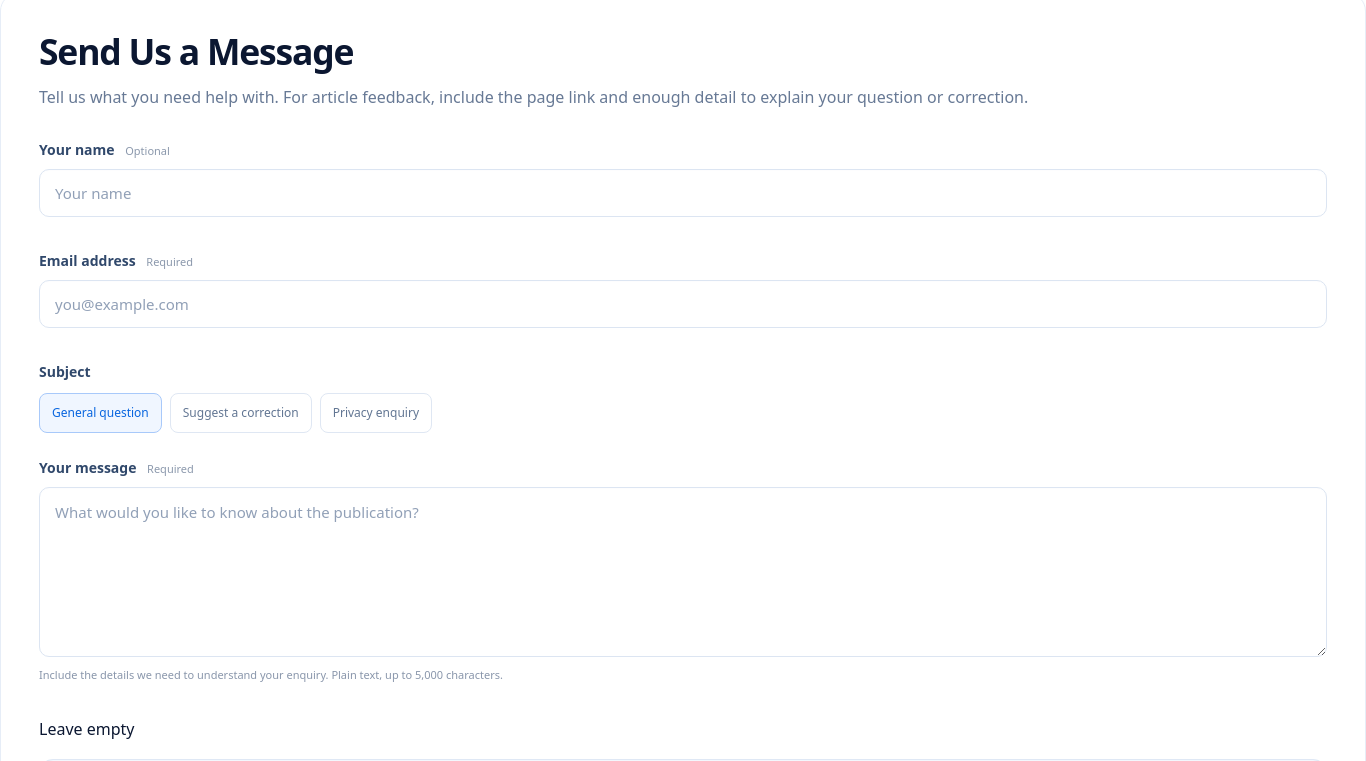
Test case: general contact › blocks blank and incorrect addition answers without losing the message
This screenshot has width=1366, height=761.
Type "reader@example.com" into the field labelled "Email address Required" at coordinates (683, 304), box [39,280,1327,328]
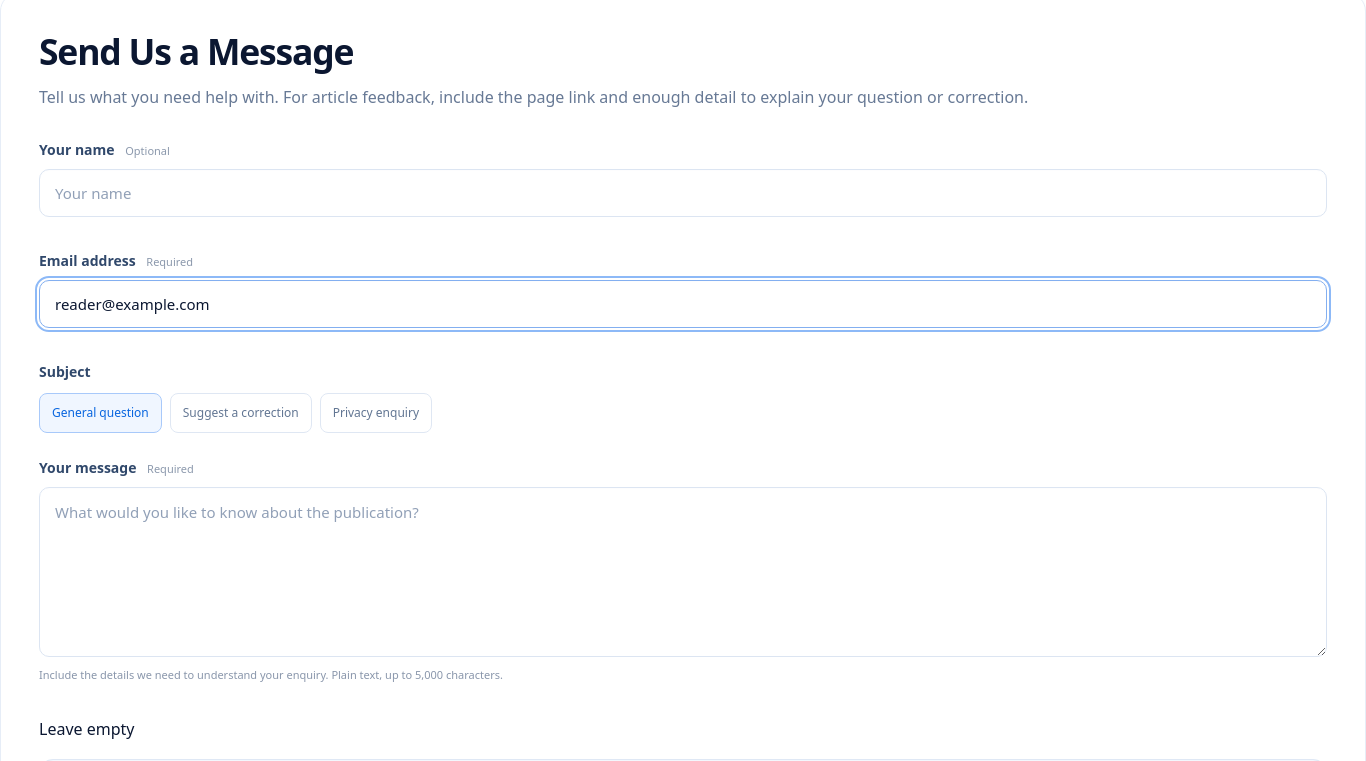
Type "My question about the publication." into the text box labelled "Your message Required" at coordinates (683, 572), box [39,487,1327,657]
(page scrolled)
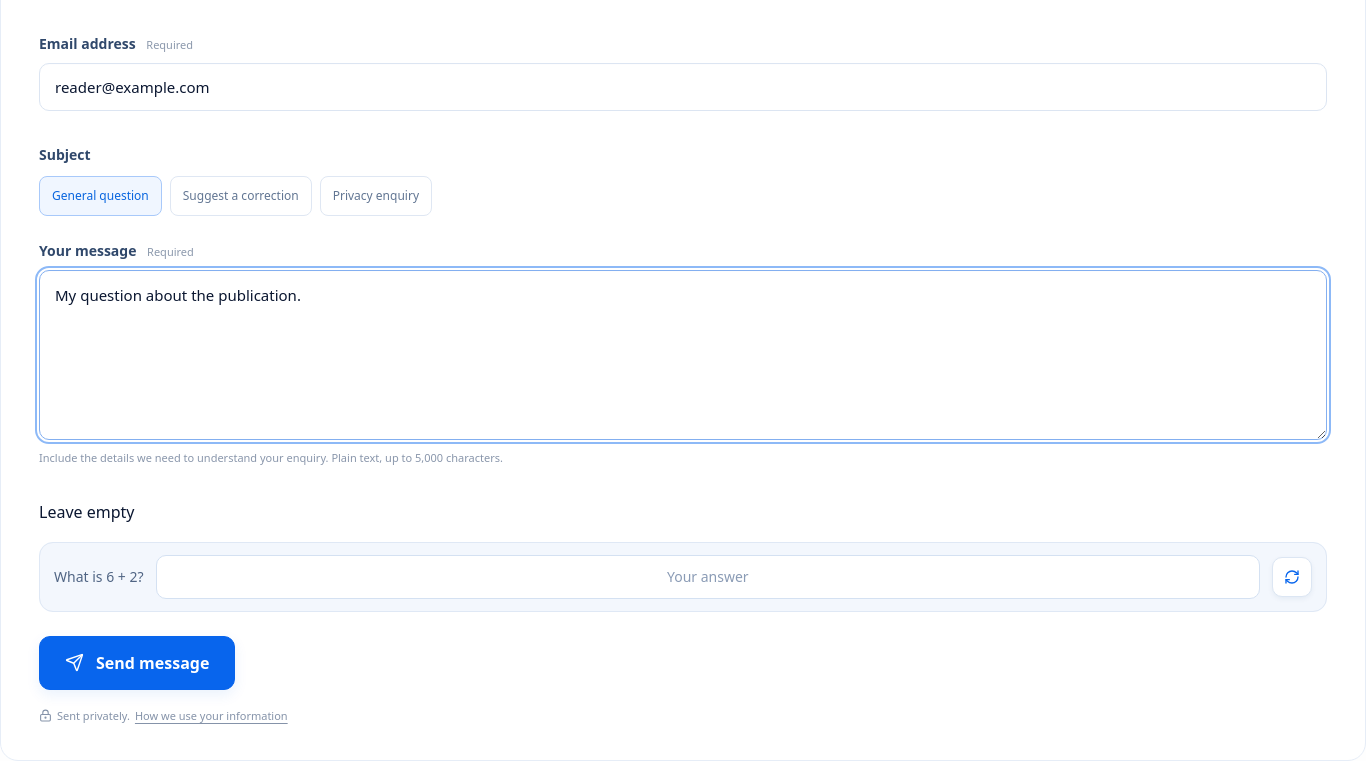
Click the button "Send message" at coordinates (137, 663), box [39,636,235,690]
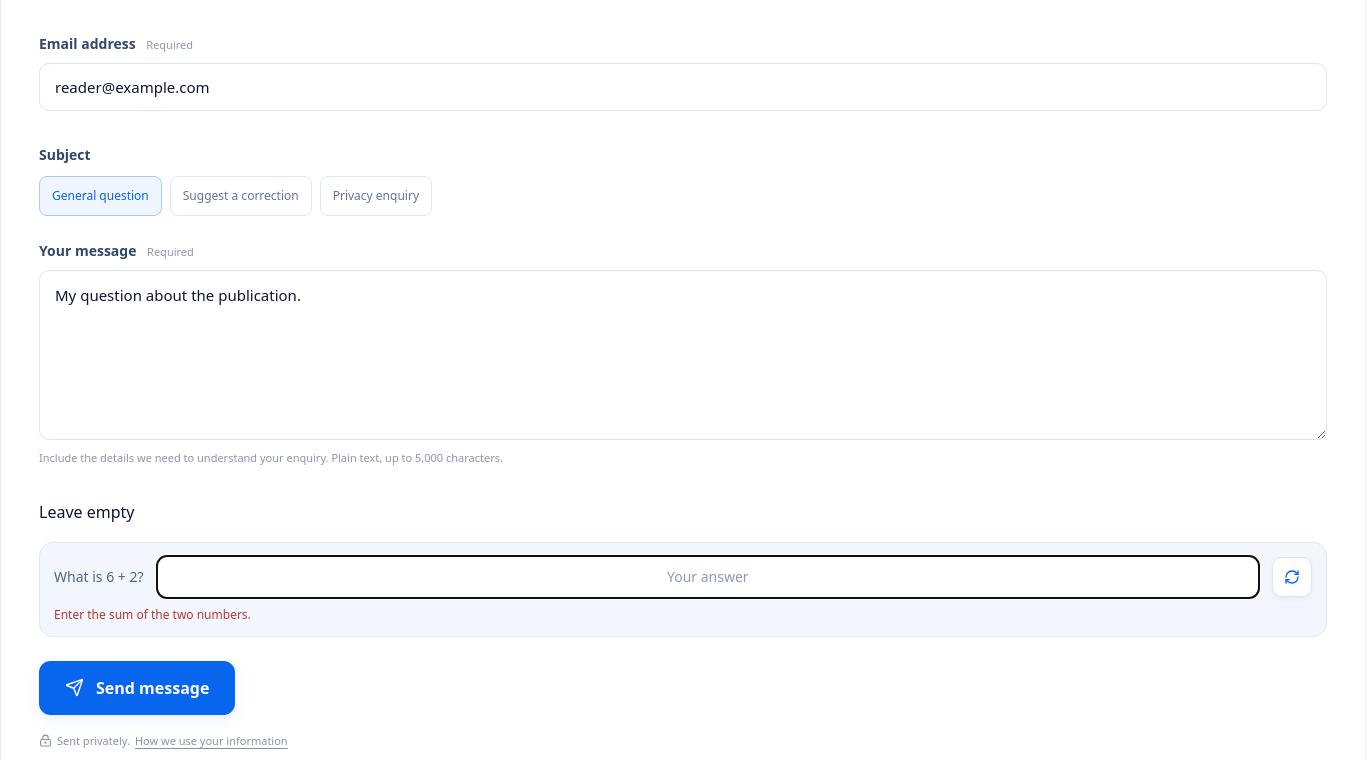
expect the message shows "Enter the sum": met, box [54,606,251,623]
Type "99" into the number field at coordinates (708, 577), box [156,555,1260,599]
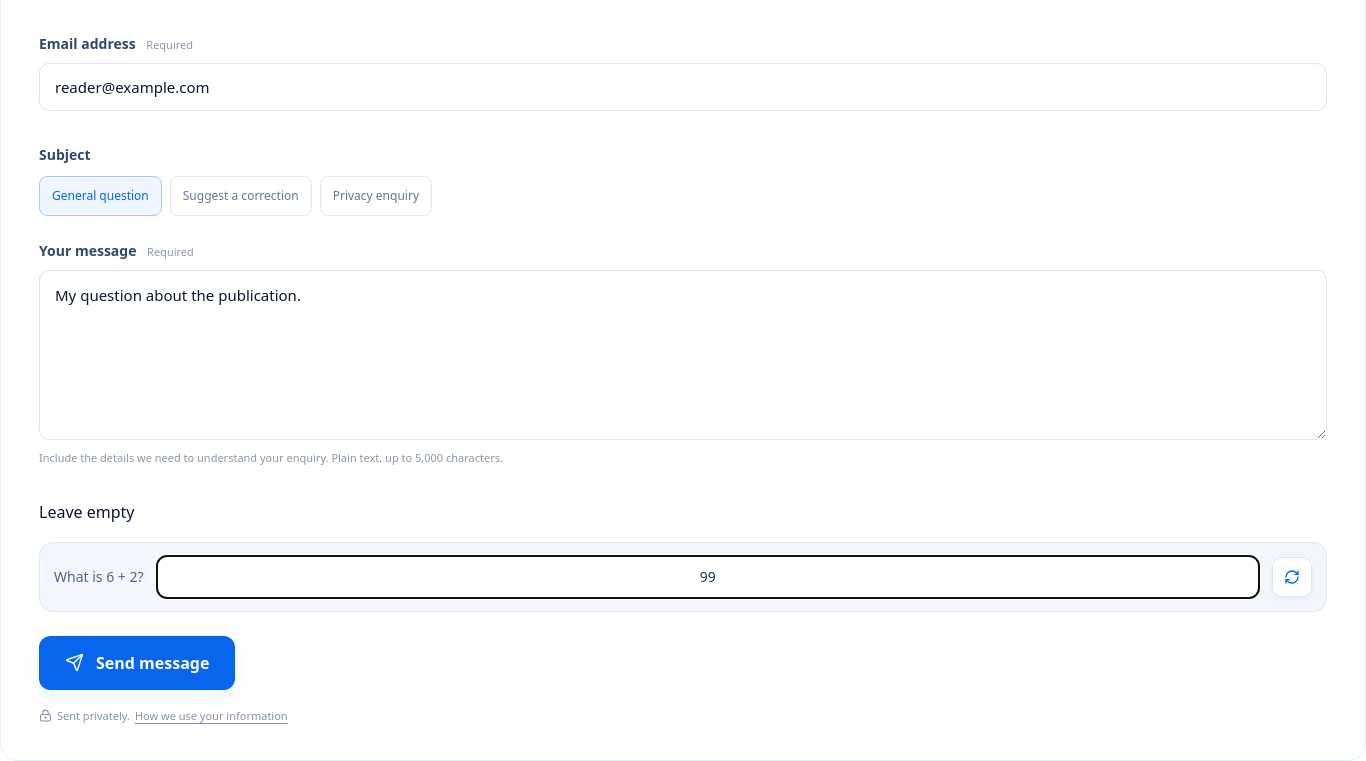
Click the button "Send message" at coordinates (137, 663), box [39,636,235,690]
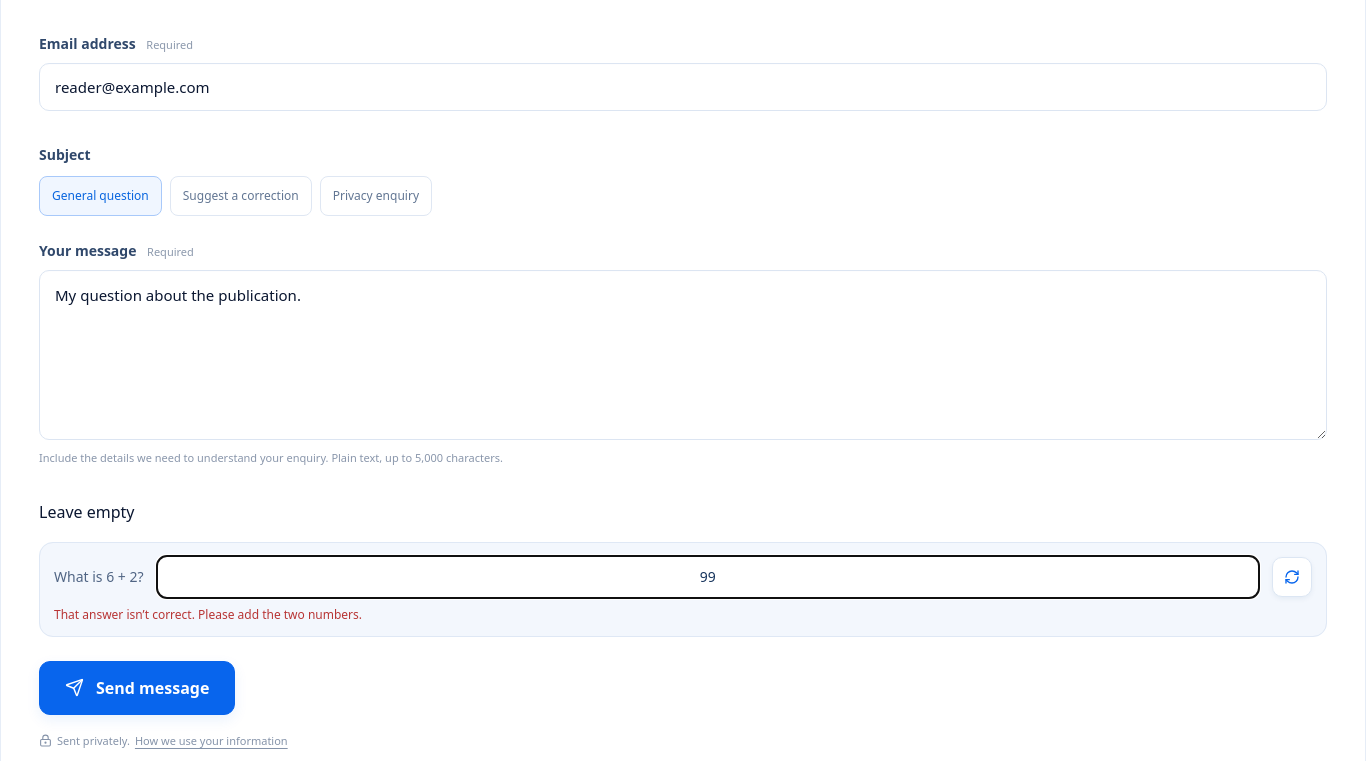
expect the message shows "isn’t correct": met, box [54,606,362,623]
